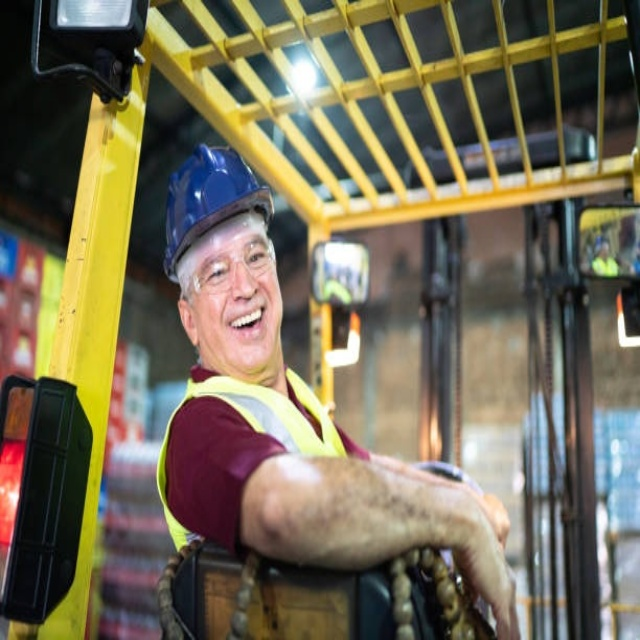Gafas: (184, 237, 277, 297), (593, 234, 606, 249)
Sin_guantes: (443, 500, 519, 640)
Sin_mascara: (227, 303, 266, 337)
